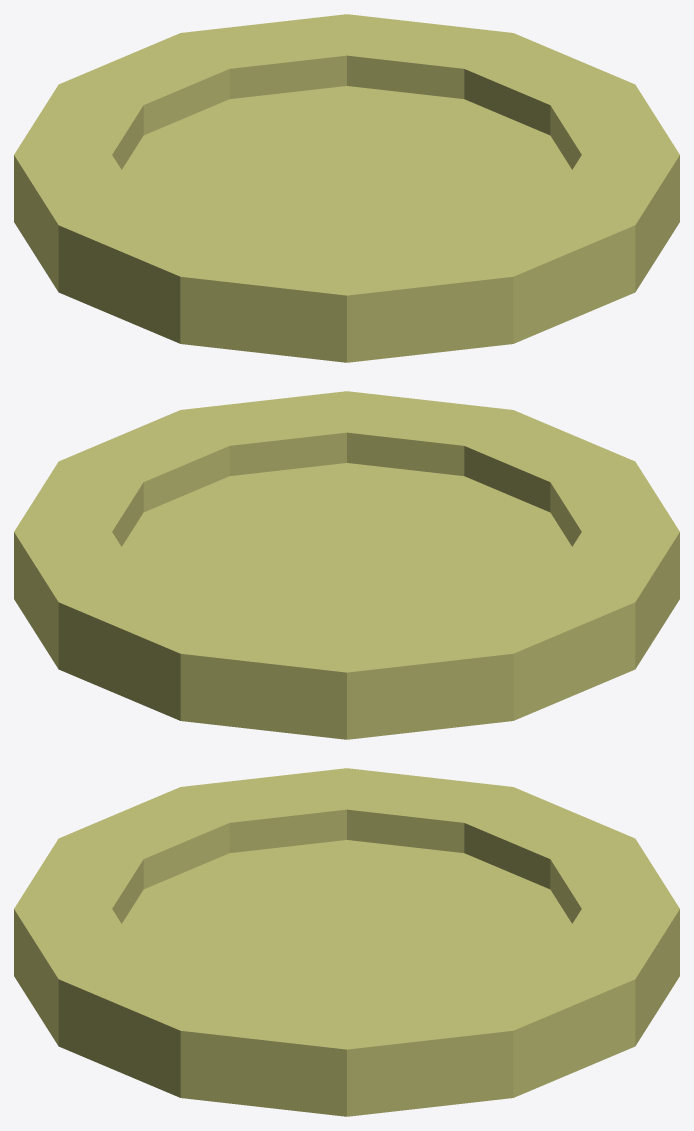
The model's file is singleCoin.fbx.
The picture shows the model from 3 angles, top to bottom: view 1: azimuth 30°, elevation 25°; view 2: azimuth 150°, elevation 25°; view 3: azimuth 270°, elevation 25°; orthographic projection.
Visible parts, largest first — view 1: pCylinder1; view 2: pCylinder1; view 3: pCylinder1.
Boxes of the visible parts, <box> form: pCylinder1: <box>14,14,679,362</box>; pCylinder1: <box>14,391,679,739</box>; pCylinder1: <box>14,768,679,1116</box>.
Bounding box in the file's own units: 2.27 × 0.2532 × 2.27.
